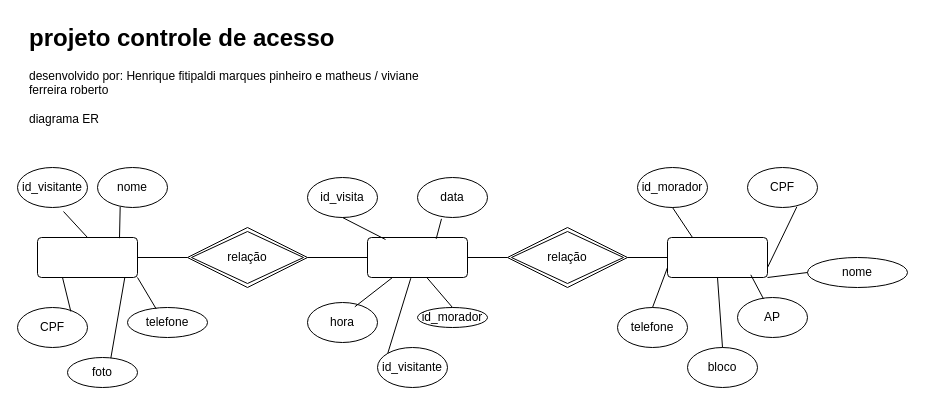
Some shapes in this 925 by 405 pixel diagram are drawn without their labels. The shapes that lost their labels are listed below. From the top down, each one's box as (x1, y1, x2, y2) in pixels, then its label:
(36, 236, 138, 278): visitante
(366, 236, 468, 278): visita
(666, 236, 768, 278): morador
